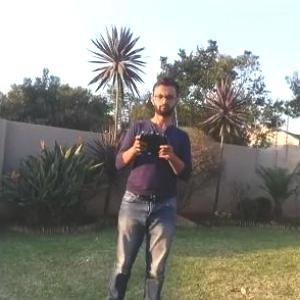follow: (100, 67, 196, 299)
